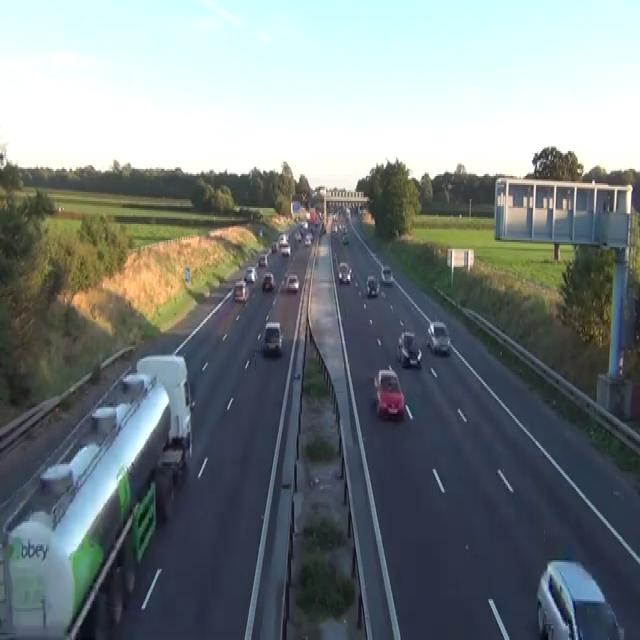Car: (536, 558, 624, 638), (90, 373, 148, 432), (39, 441, 101, 494), (373, 368, 404, 420), (69, 441, 101, 489), (90, 400, 131, 434), (396, 331, 422, 366), (426, 320, 450, 354), (262, 322, 283, 356), (233, 279, 248, 302), (366, 274, 379, 297), (338, 261, 351, 283), (261, 270, 274, 290), (380, 265, 393, 284), (286, 274, 299, 292), (244, 265, 257, 283), (280, 242, 291, 256), (258, 254, 267, 267), (299, 220, 308, 233), (278, 233, 287, 245), (319, 222, 326, 235), (294, 229, 301, 242), (331, 222, 338, 235), (271, 240, 278, 252), (304, 235, 311, 245), (342, 233, 348, 243), (259, 228, 262, 236)
Truck: (0, 352, 192, 638), (135, 354, 193, 474)
